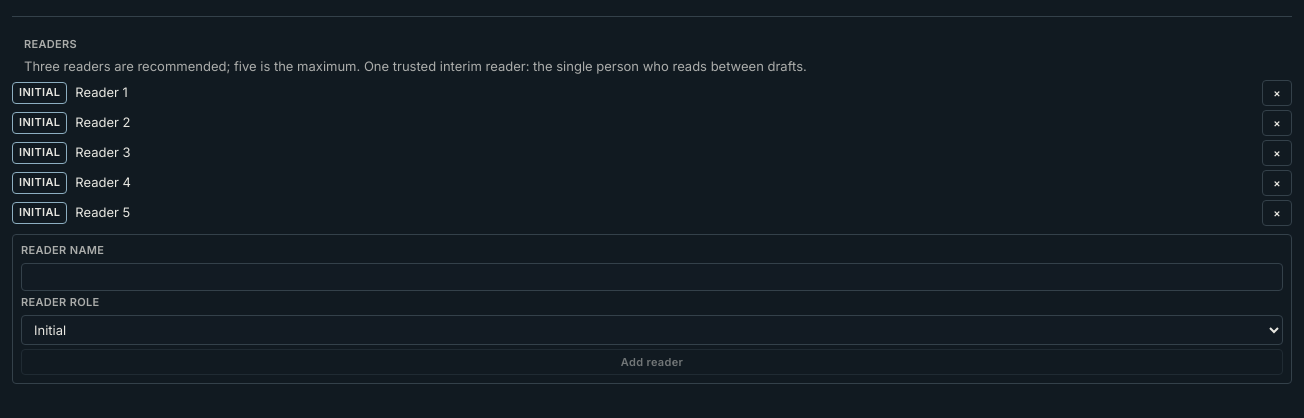
Test case: readers manager › refuses a sixth initial reader with a visible message
In the field labelled "Reader name": (652, 277) [21,263,1283,291], type "One Too Many"
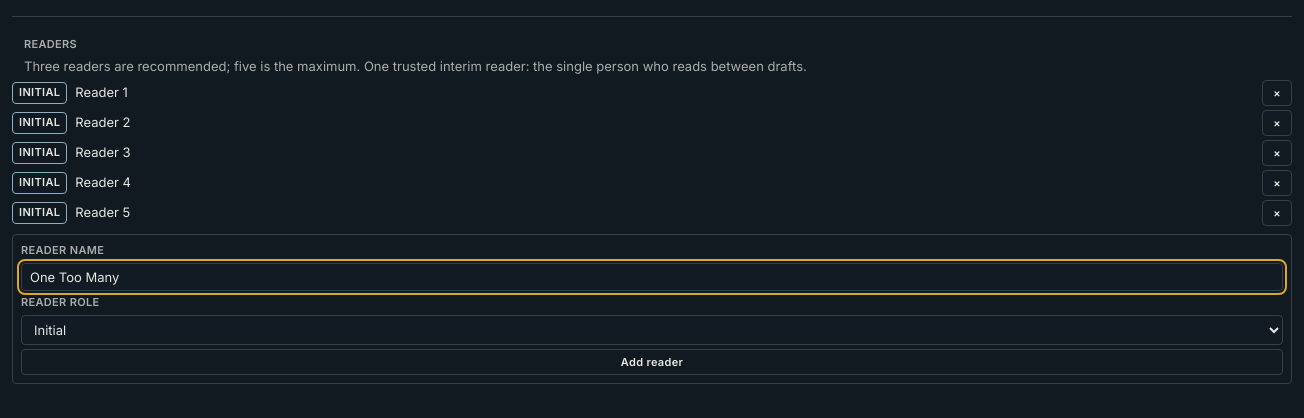
Click the button "Add reader": (652, 362) [21,349,1283,375]
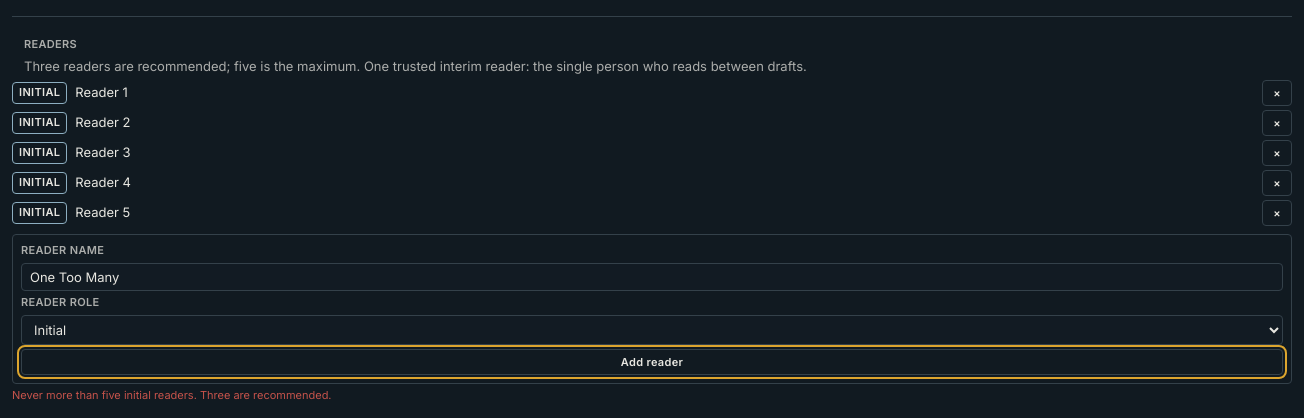
Now the message shows "five", box [12,388,332,402]
